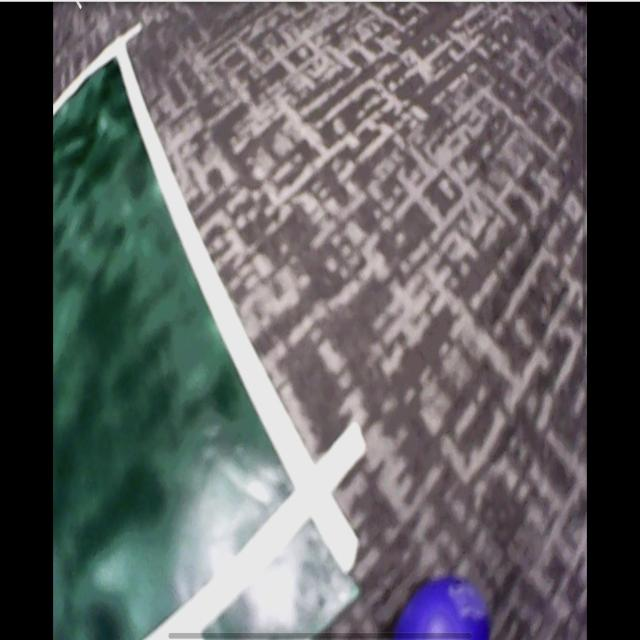ball: (398, 577, 489, 640)
